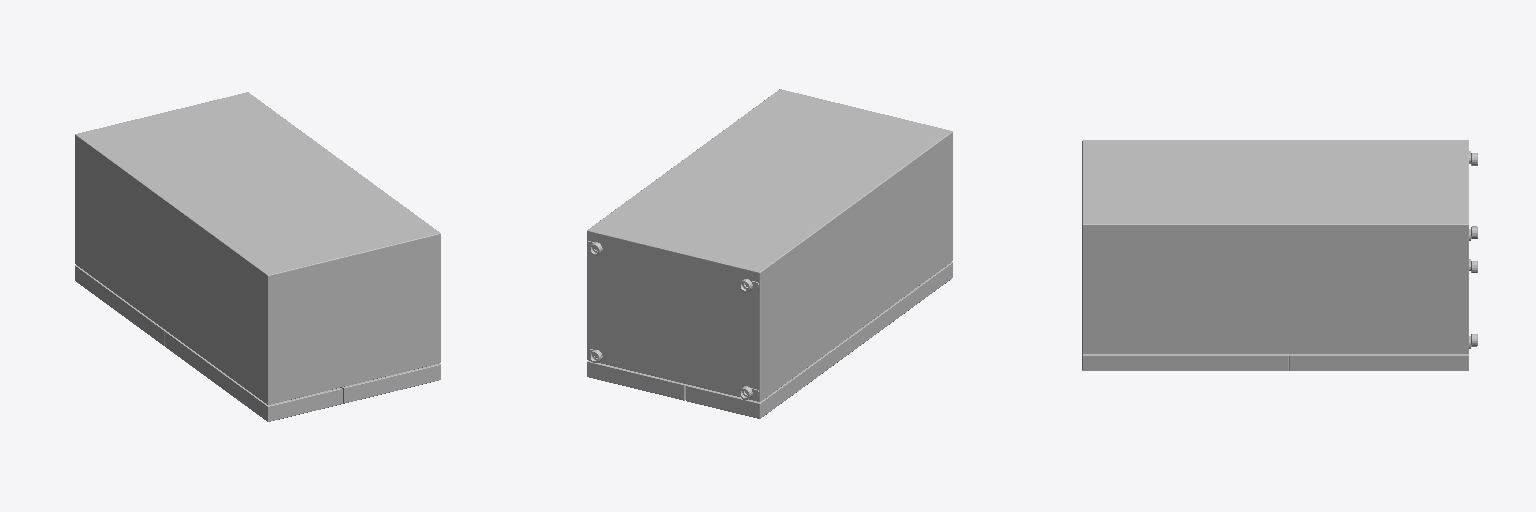
File: fridge.obj
3 views of the same model, side by side, from view 1: azimuth 30°, elevation 25°; view 2: azimuth 150°, elevation 25°; view 3: azimuth 270°, elevation 25° (orthographic).
Visible parts, largest first — view 1: Box002; view 2: Box002; view 3: Box002.
Part boxes in pixels (bbox=[...]): Box002: bbox=[75, 92, 440, 421]; Box002: bbox=[587, 89, 952, 418]; Box002: bbox=[1082, 140, 1477, 370].
Bounding box in the file's own units: 9.12 × 7.41 × 17.98.